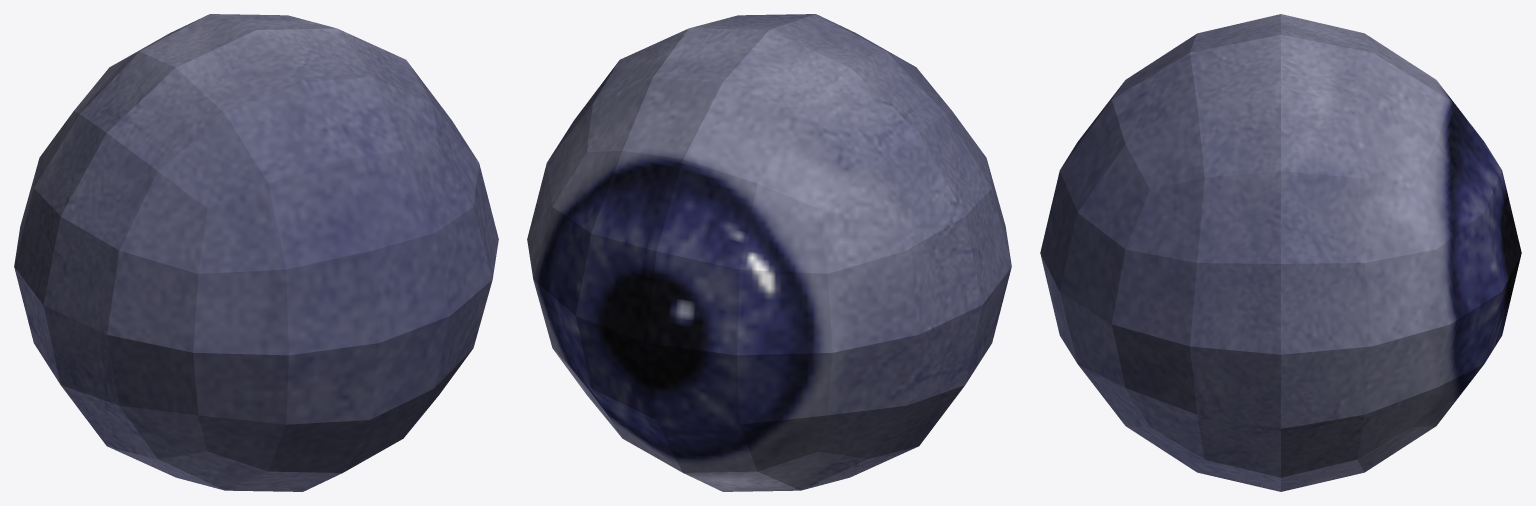
The model's file is banshee_eye.obj.
3 views of the same model, side by side, from view 1: azimuth 30°, elevation 25°; view 2: azimuth 150°, elevation 25°; view 3: azimuth 270°, elevation 25° (orthographic). The views are drawn at different scales.
Parts seen in each view (by area): view 1: EyeLeft; view 2: EyeLeft; view 3: EyeLeft.
Part boxes in pixels (x1,y1,x2,y2): EyeLeft: (14, 14, 498, 491); EyeLeft: (527, 14, 1011, 491); EyeLeft: (1040, 14, 1521, 491).
Size of the model in its own units: 1.42 by 1.42 by 1.42.
Materials: 1 (1 with a texture image).
